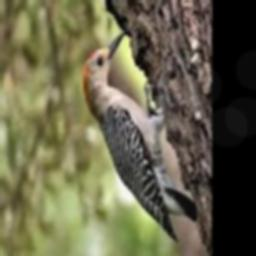Woodpecker: (82, 30, 197, 242)
